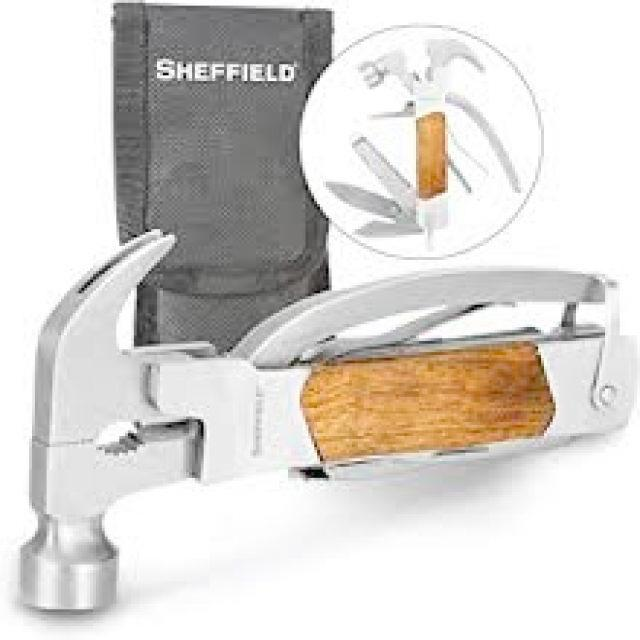hammer: (0, 207, 620, 626)
